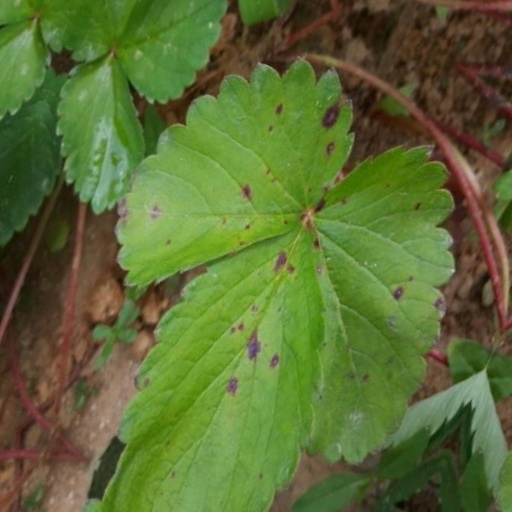Leaf Spot: (192, 203, 382, 511), (290, 80, 462, 420), (106, 51, 302, 337)
